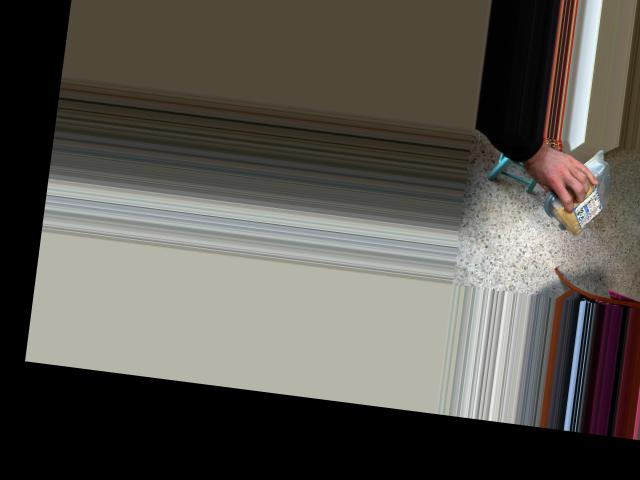cheese: (556, 145, 610, 248)
